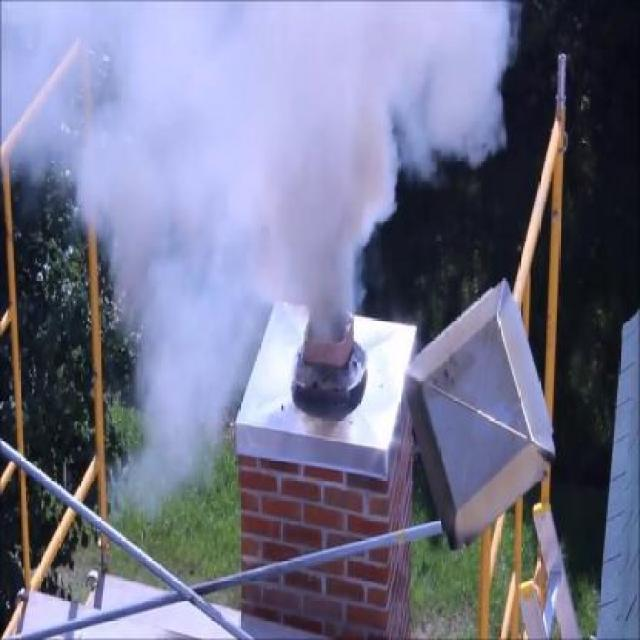smoke: (113, 28, 510, 207), (130, 251, 238, 452)
